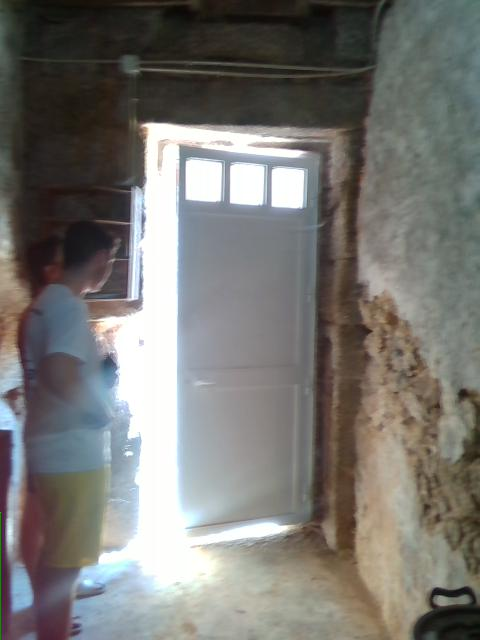closed_door: (171, 138, 325, 527)
